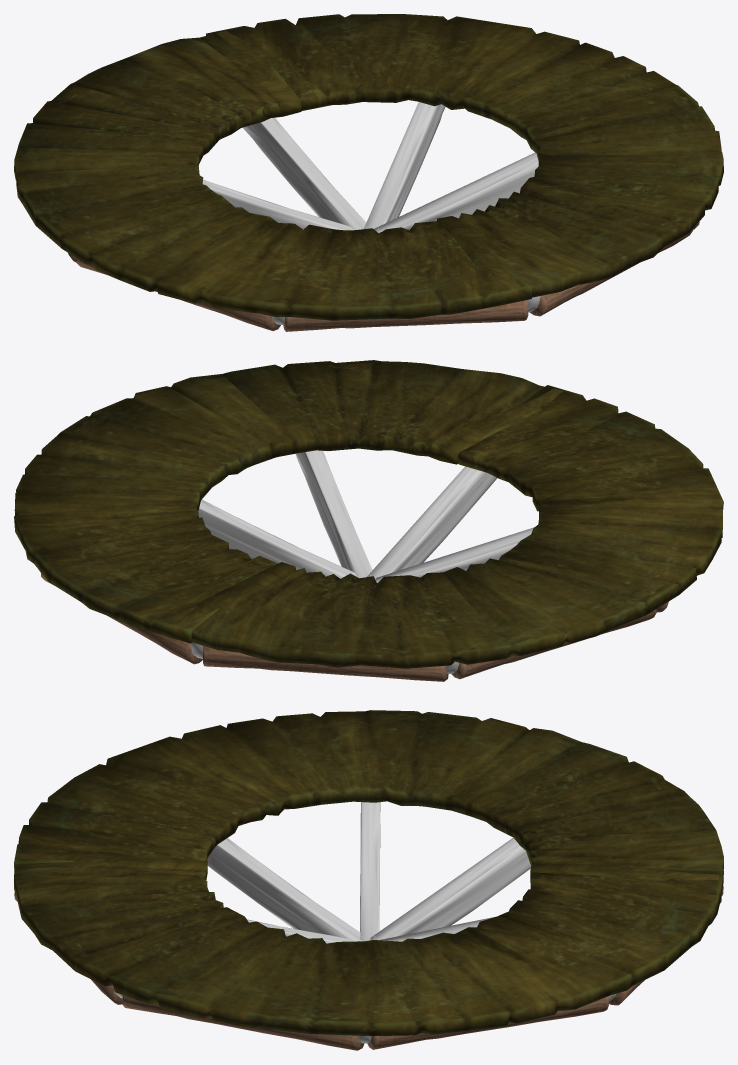
The model's file is SM_platform_supported_plain.fbx.
The picture shows the model from 3 angles, top to bottom: view 1: azimuth 30°, elevation 25°; view 2: azimuth 150°, elevation 25°; view 3: azimuth 270°, elevation 25°; orthographic projection. The views are drawn at different scales.
Parts seen in each view (by area): view 1: platform_supported_plain; view 2: platform_supported_plain; view 3: platform_supported_plain.
Part boxes in pixels (x1,y1,x2,y2): platform_supported_plain: [14, 14, 723, 331]; platform_supported_plain: [14, 360, 723, 681]; platform_supported_plain: [14, 710, 723, 1050].
Bounding box in the file's own units: 1672 × 273 × 1599.
